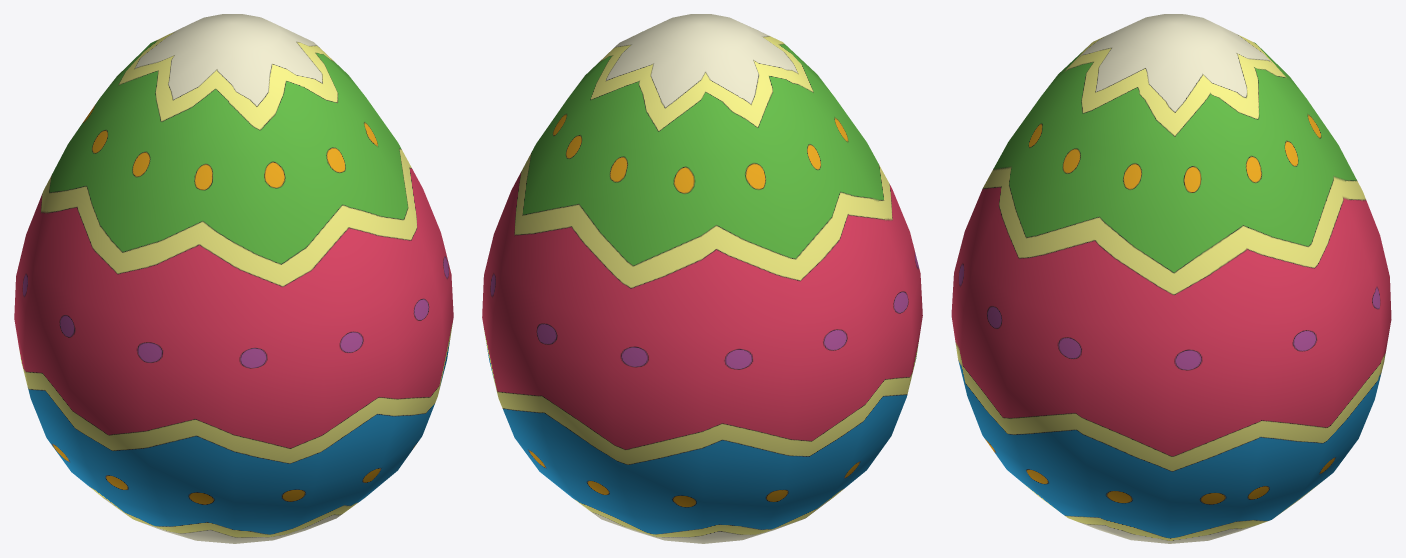
Rendered from DinosaurEgg14.fbx.
3 renders of one model, left to right at view 1: azimuth 30°, elevation 25°; view 2: azimuth 150°, elevation 25°; view 3: azimuth 270°, elevation 25°, orthographic.
Parts seen in each view (by area): view 1: DinosaurEgg14; view 2: DinosaurEgg14; view 3: DinosaurEgg14.
Part boxes in pixels (x1=…): DinosaurEgg14: x1=14, y1=14, x2=453, y2=543; DinosaurEgg14: x1=482, y1=14, x2=922, y2=543; DinosaurEgg14: x1=951, y1=14, x2=1391, y2=543.
Bounding box in the file's own units: 58.34 × 73.33 × 58.66.
